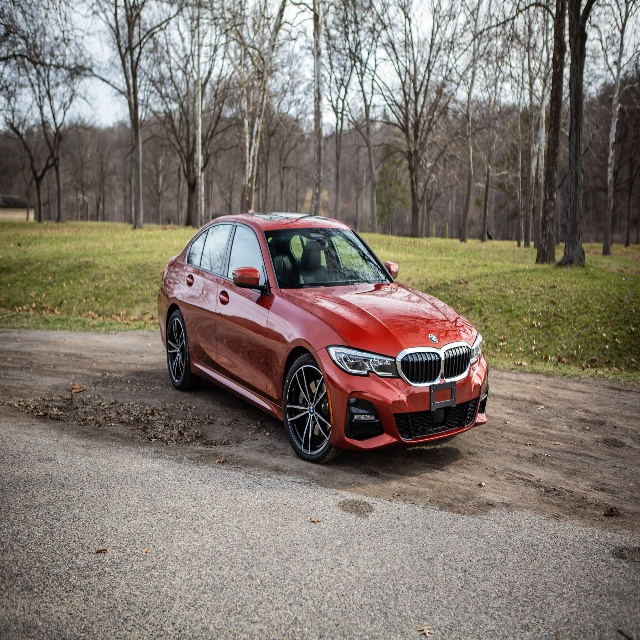Car: (157, 212, 489, 467)
